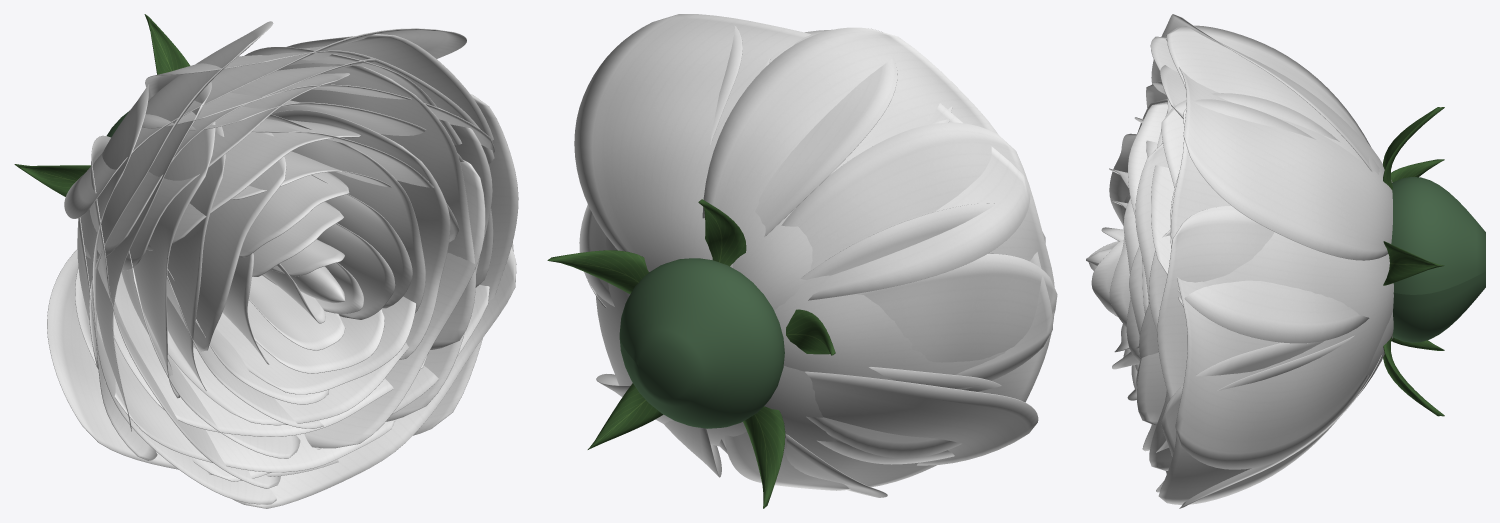
The model's file is rose-2-high.glb.
3 views of the same model, side by side, from view 1: azimuth 30°, elevation 25°; view 2: azimuth 150°, elevation 25°; view 3: azimuth 270°, elevation 25° (orthographic). The views are drawn at different scales.
Visible parts, largest first — view 1: Rose_2_high_Petals, Rose_2_high_Sepals; view 2: Rose_2_high_Petals, Rose_2_high_Receptacle, Rose_2_high_Sepals; view 3: Rose_2_high_Petals, Rose_2_high_Receptacle, Rose_2_high_Sepals.
Part boxes in pixels (x1,y1,x2,y2): Rose_2_high_Petals: (47,21,518,508); Rose_2_high_Sepals: (14,14,190,196); Rose_2_high_Petals: (574,14,1057,497); Rose_2_high_Receptacle: (619,258,784,428); Rose_2_high_Sepals: (547,199,835,508); Rose_2_high_Petals: (1086,14,1393,508); Rose_2_high_Receptacle: (1391,177,1485,342); Rose_2_high_Sepals: (1383,107,1444,416).
Size of the model in its own units: 0.6079 by 0.6199 by 0.5047.
3 materials, 2 textured.
